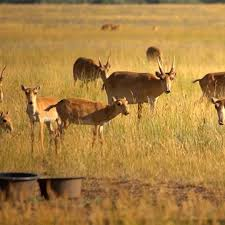saiga: (102, 55, 177, 123), (46, 96, 127, 147), (19, 84, 64, 151)
